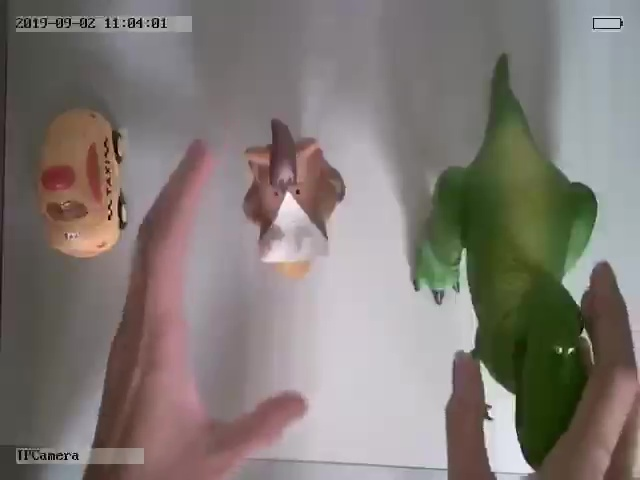car: (37, 104, 131, 258)
horse: (240, 118, 346, 281)
rex: (411, 48, 596, 383)
